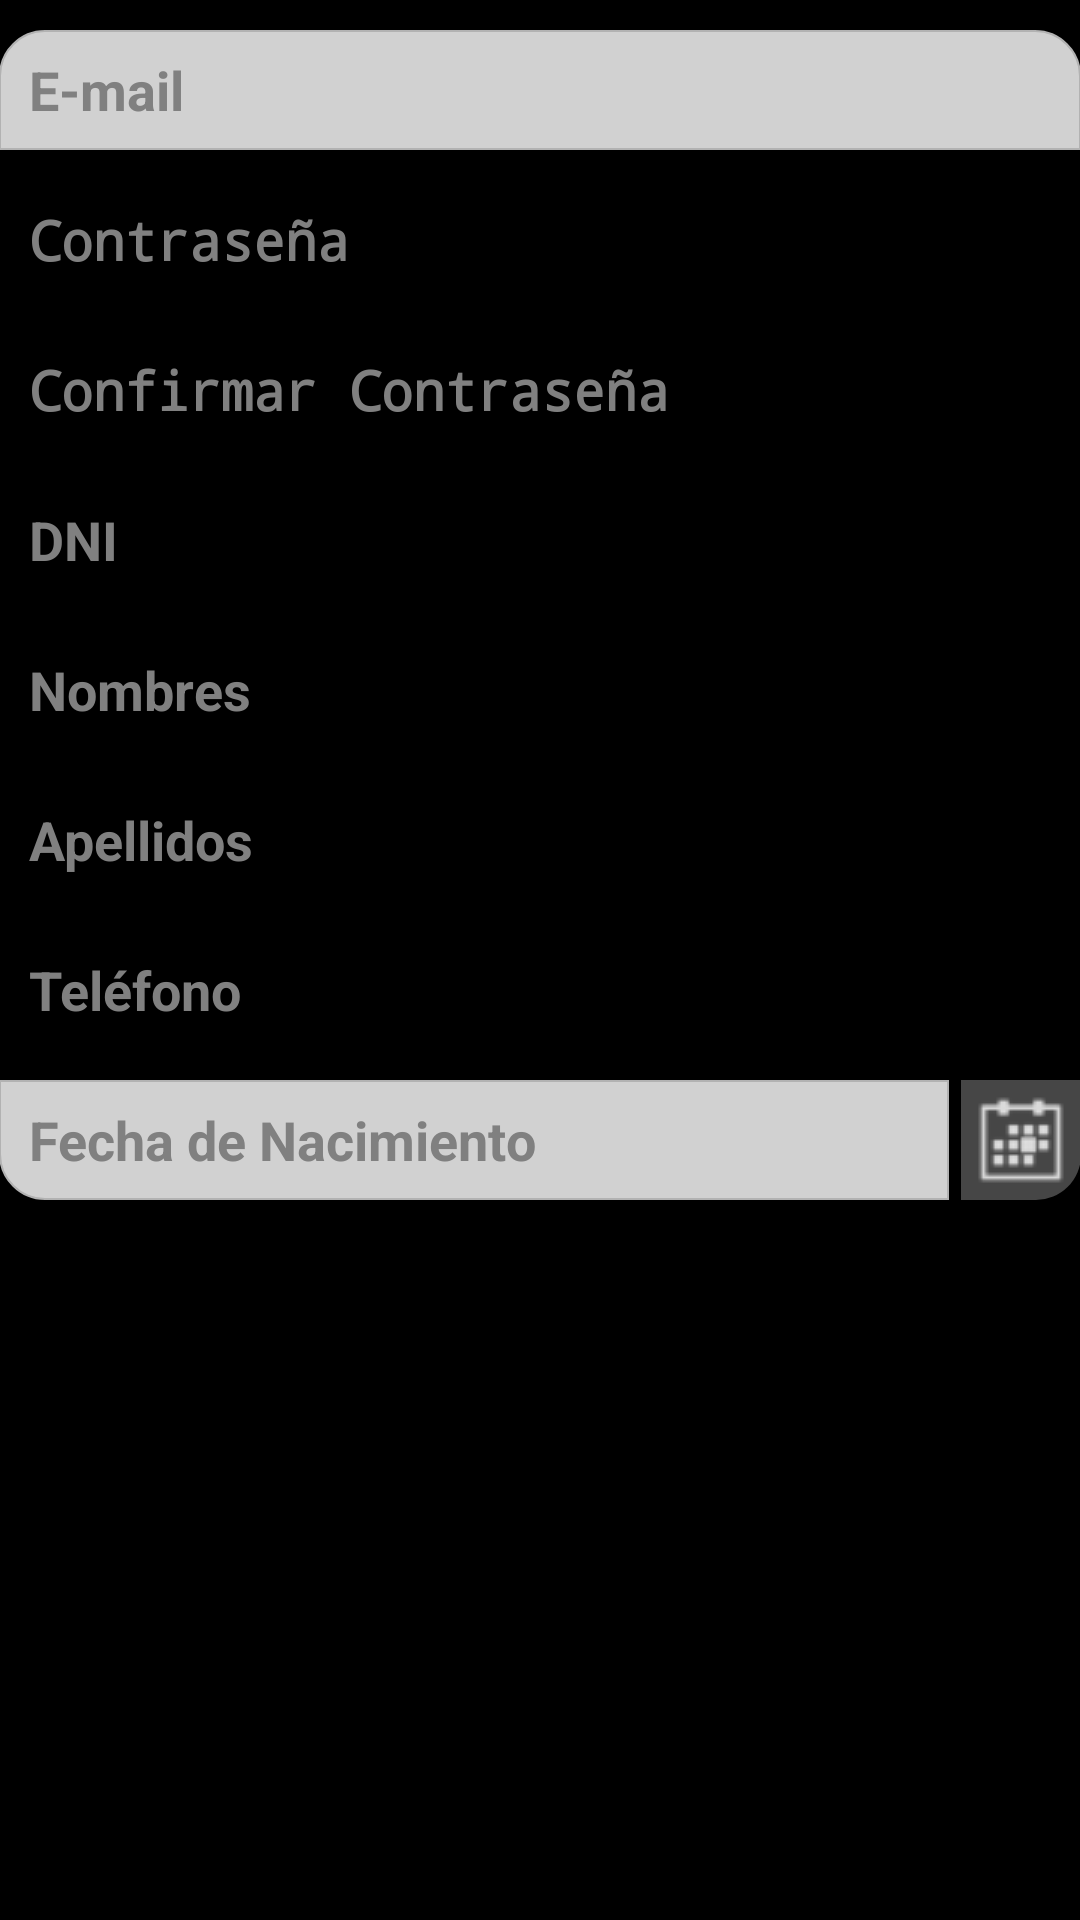

Locate icon controls on the screen. Image size 1080*1920, boxes as (x1, y1, x2, y2).
Seleccionar Mes: (961, 1080, 1080, 1200)
